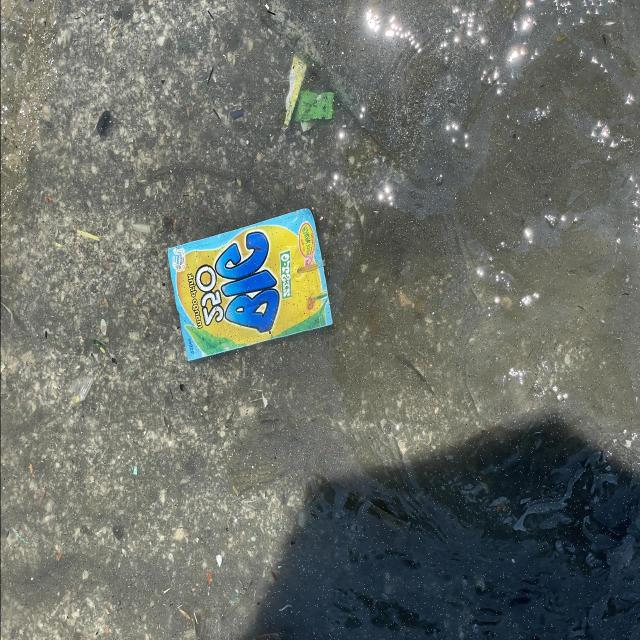plastic_waste: (167, 208, 334, 363), (281, 56, 335, 128)
